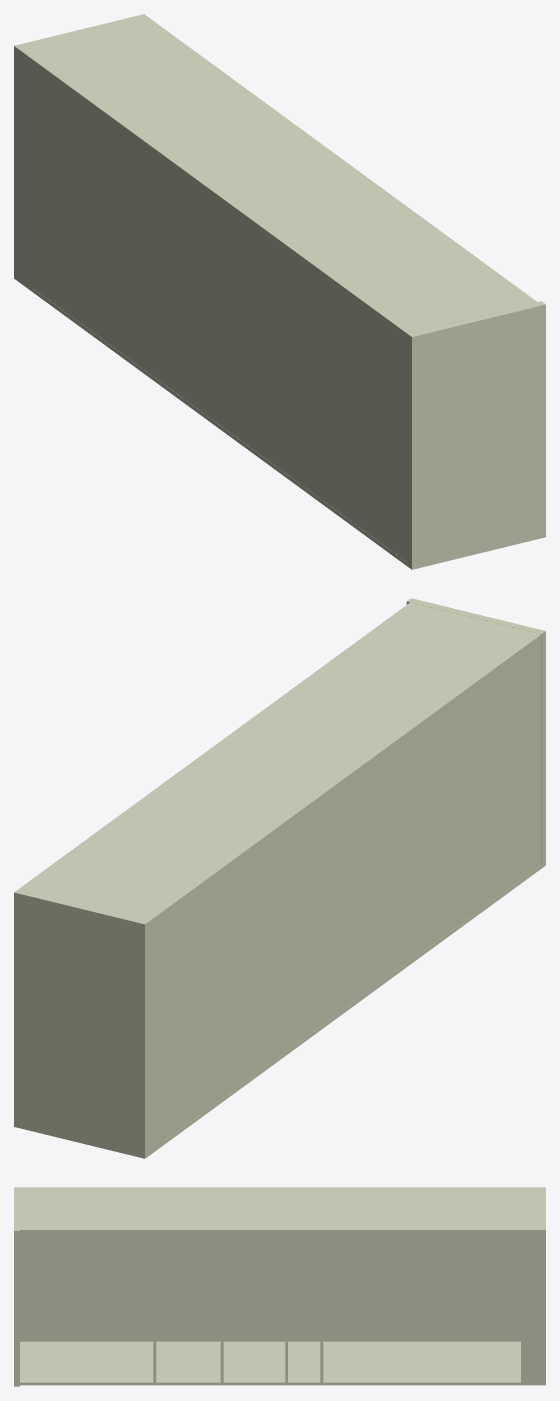
File: nil_link_mesh.dae
3 renders of one model, top to bottom at view 1: azimuth 30°, elevation 25°; view 2: azimuth 150°, elevation 25°; view 3: azimuth 270°, elevation 25°, orthographic. The views are drawn at different scales.
Parts seen in each view (by area): view 1: nil_link; view 2: nil_link; view 3: nil_link.
Part boxes in pixels (x1,y1,x2,y2): nil_link: [14, 14, 545, 569]; nil_link: [14, 598, 545, 1158]; nil_link: [14, 1187, 545, 1386].
Size of the model in its own units: 0.353 by 0.586 by 1.82.
